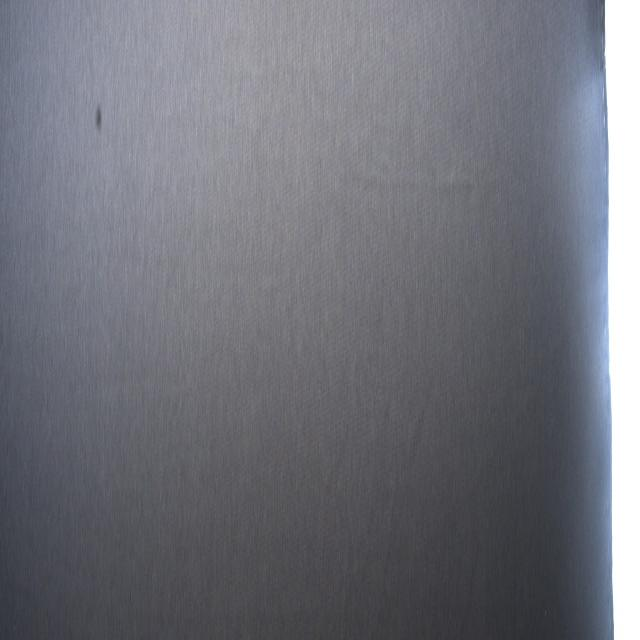crease: (367, 343, 443, 640), (338, 145, 488, 213), (85, 354, 194, 410), (339, 509, 354, 640)
